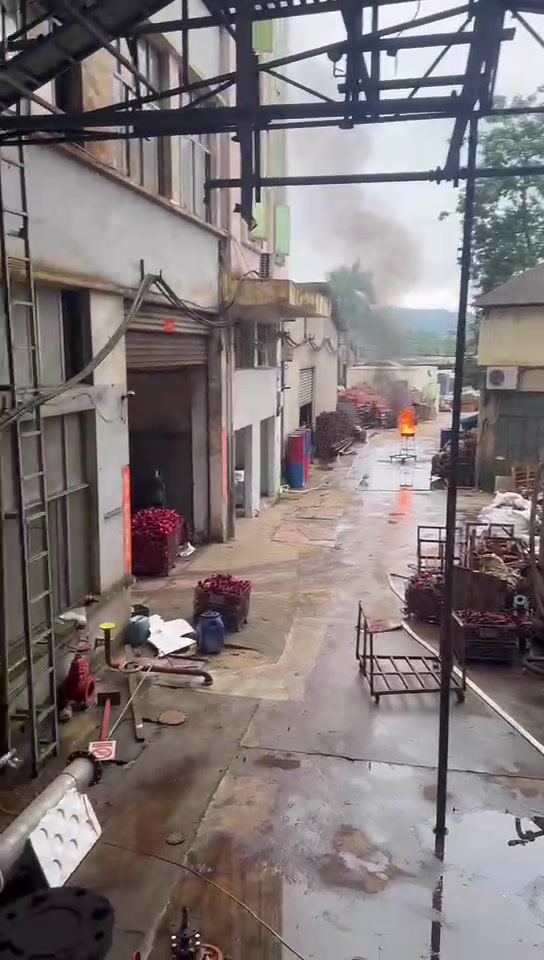fire: (397, 406, 414, 433)
